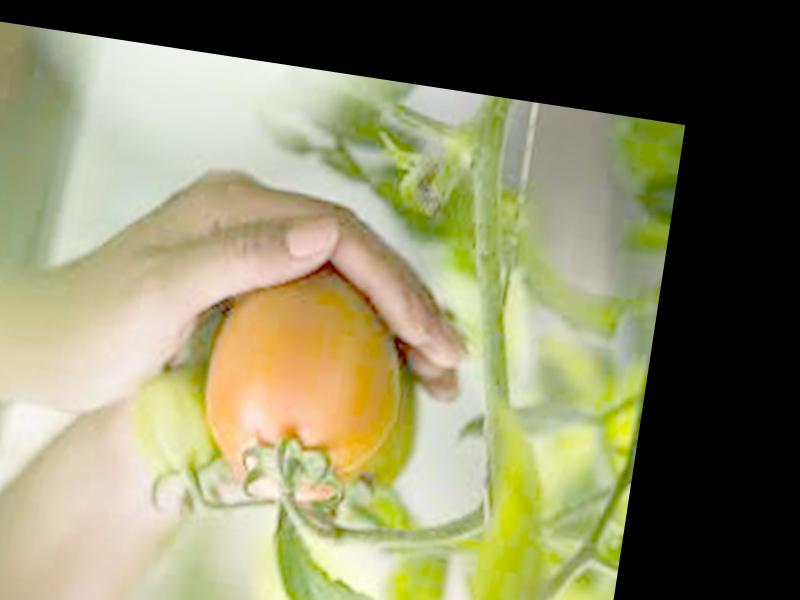Tomato: (192, 267, 411, 512)
